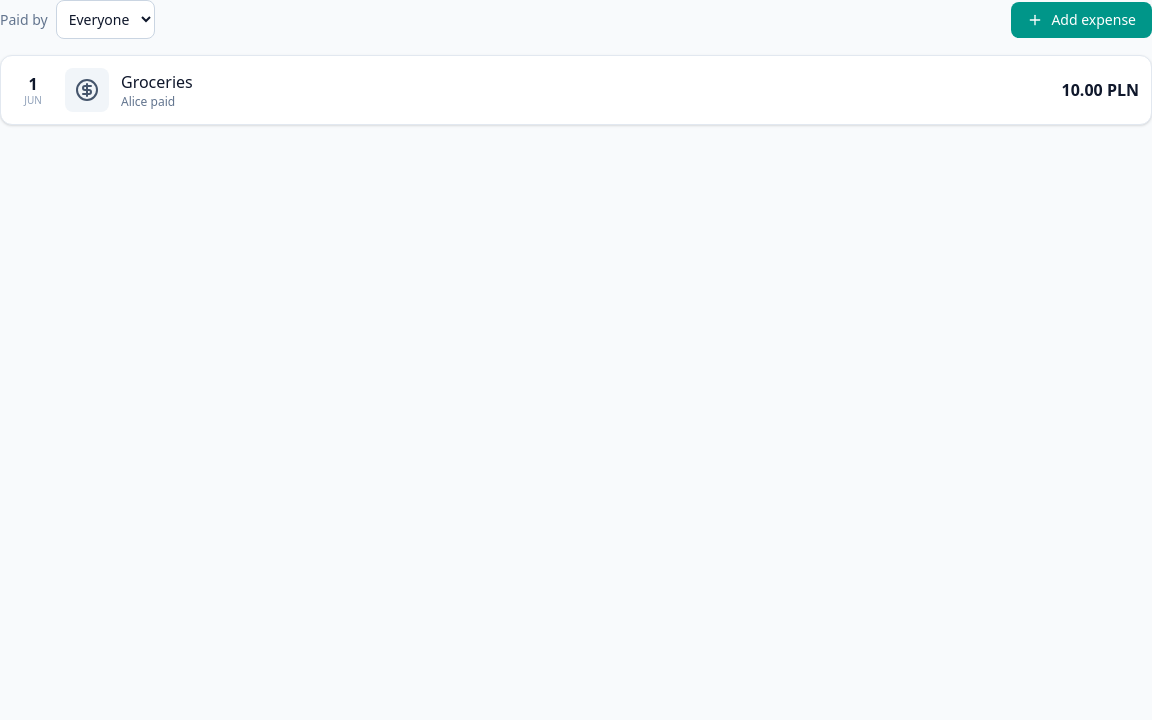
it: ExpensesTab — row interactions › clicking the row opens the edit view
Click the text "Groceries".
click(157, 82)  # box [121,71,193,93]
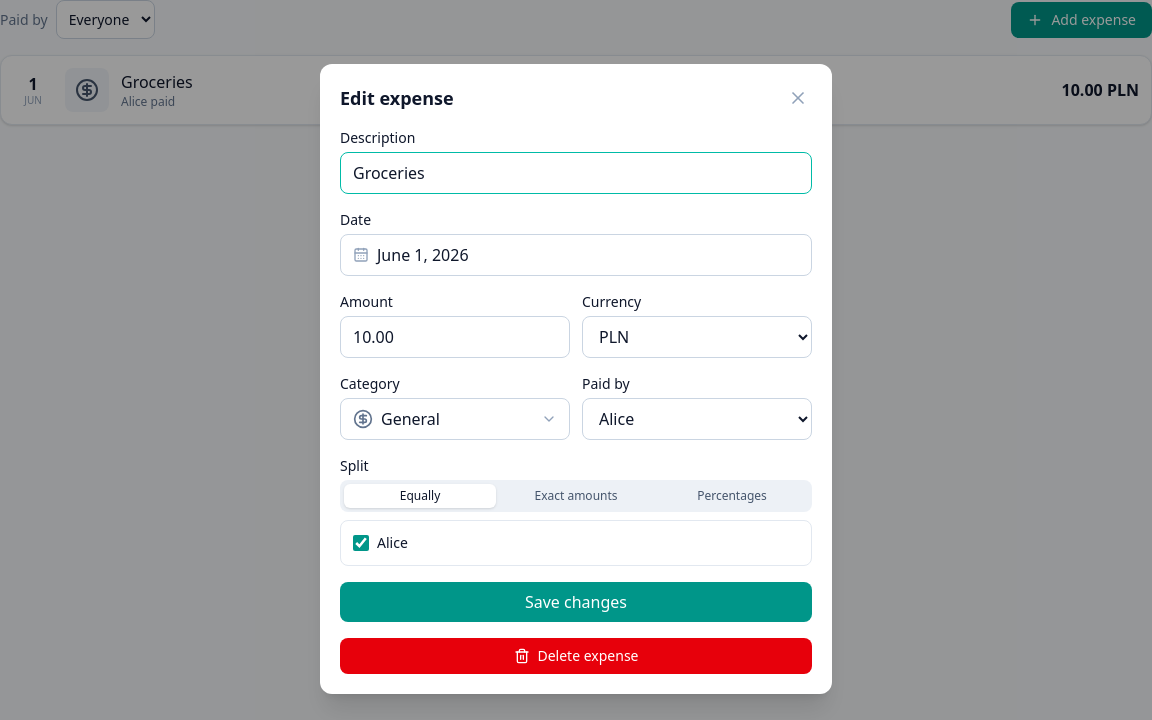
Now the heading "Edit expense" is shown, box [340,84,454,112]
Now the button "Delete expense" is shown, box [340,638,812,674]
